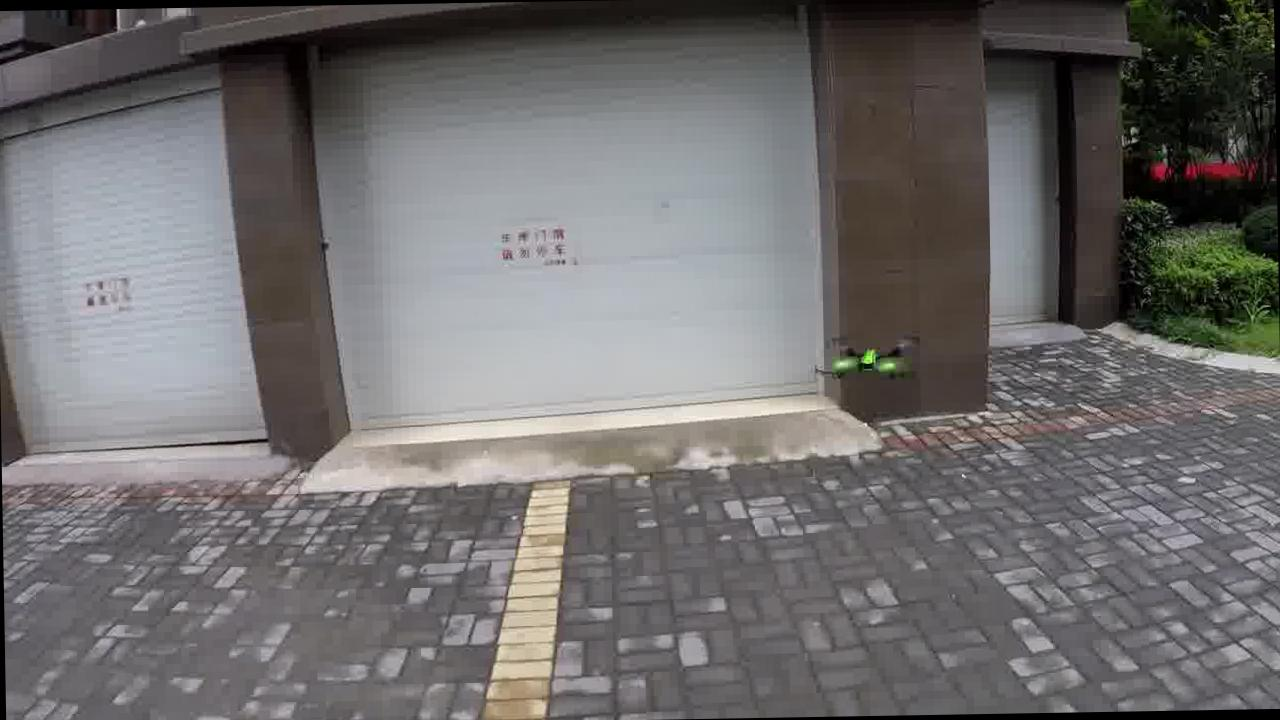drone: (794, 318, 944, 382)
